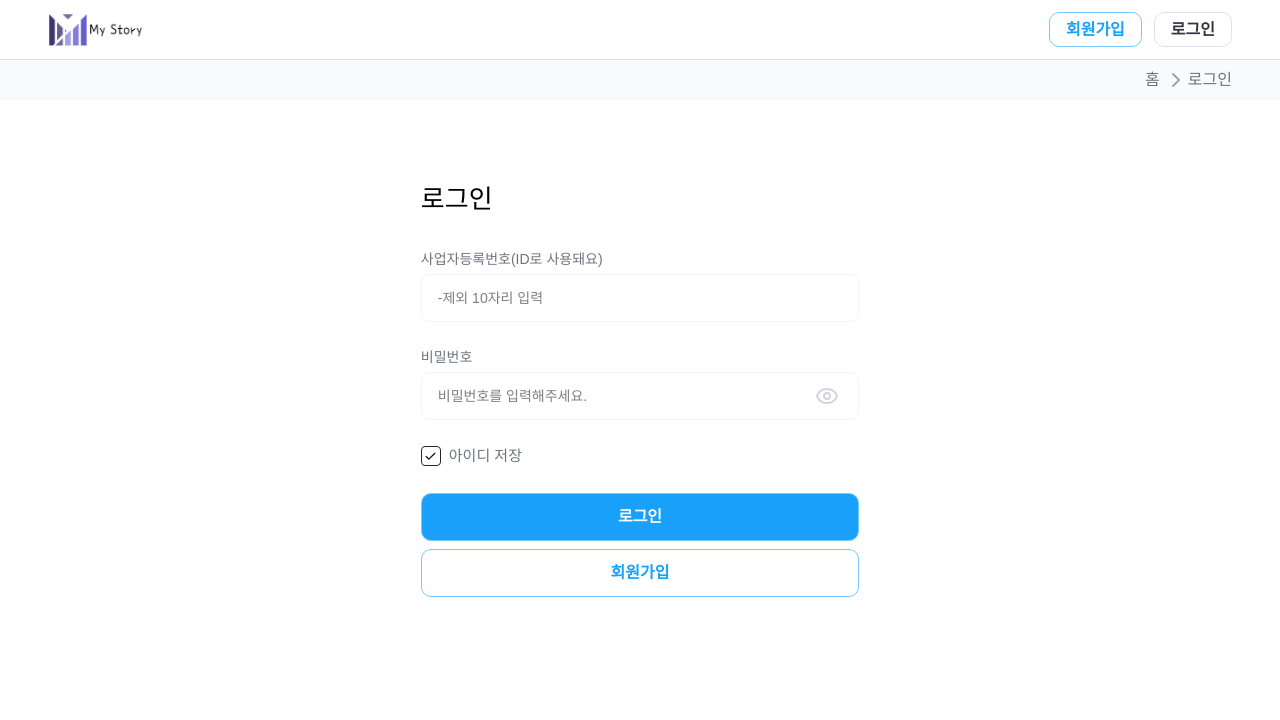
Test: 로그인 화면 › 사용자는 유효성 맞지 않는 아이디, 비밀번호로 로그인 시도시 토스트 바에 뜬다.
Type "1234567890" into the field with placeholder "-제외 10자리 입력" at (640, 298), box [421,274,859,322]
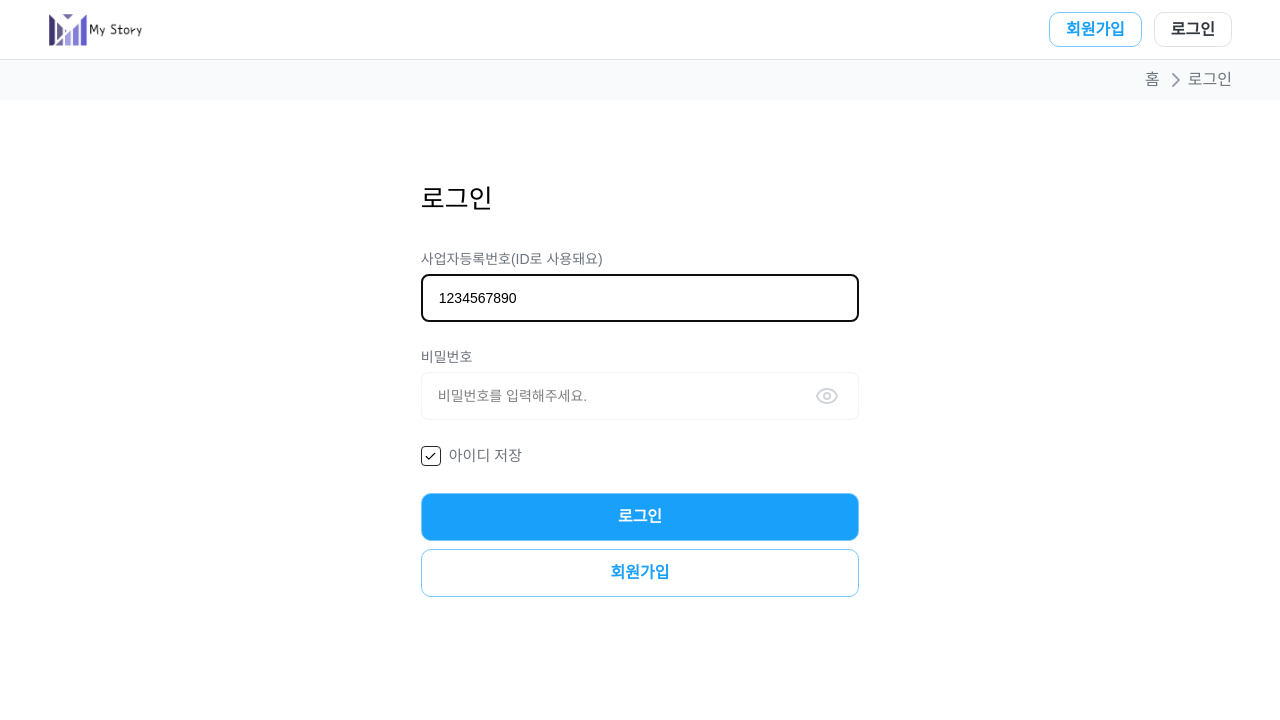
Type "invalidPassword" into the password field with placeholder "비밀번호를 입력해주세요." at (640, 396), box [421,372,859,420]
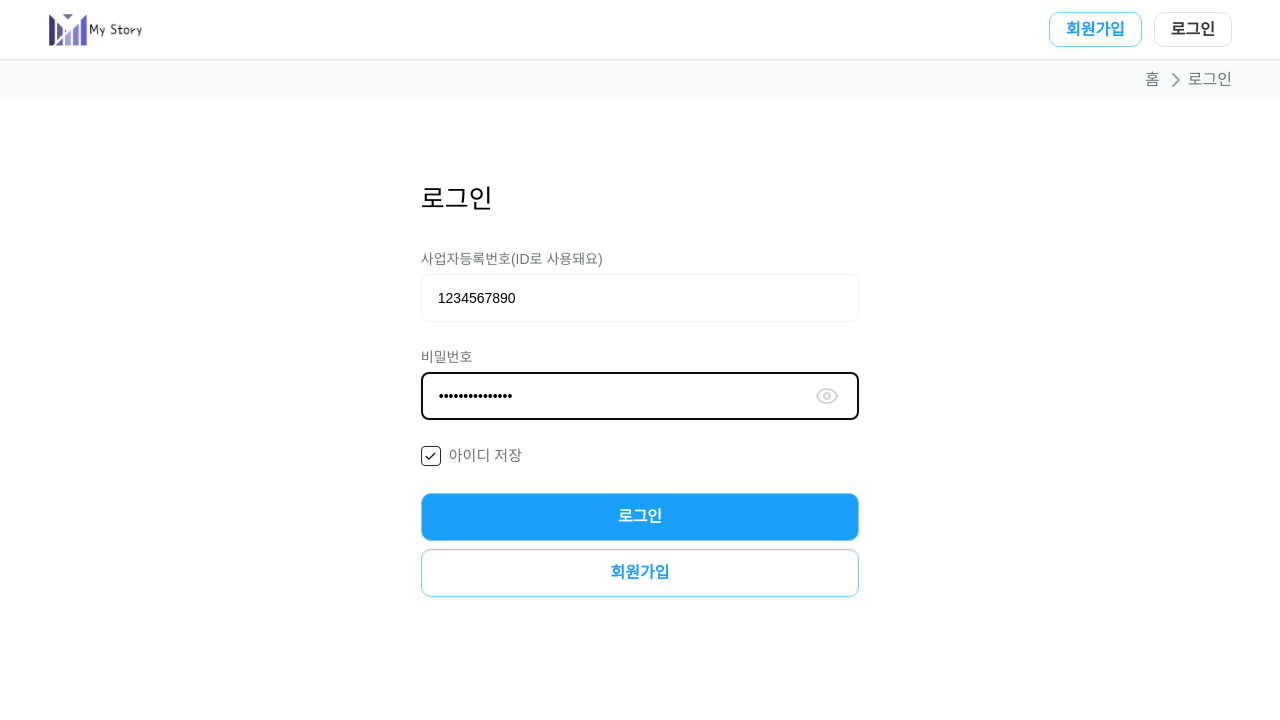
Click the button with test id "login-button" at (640, 517), box [421,493,859,541]
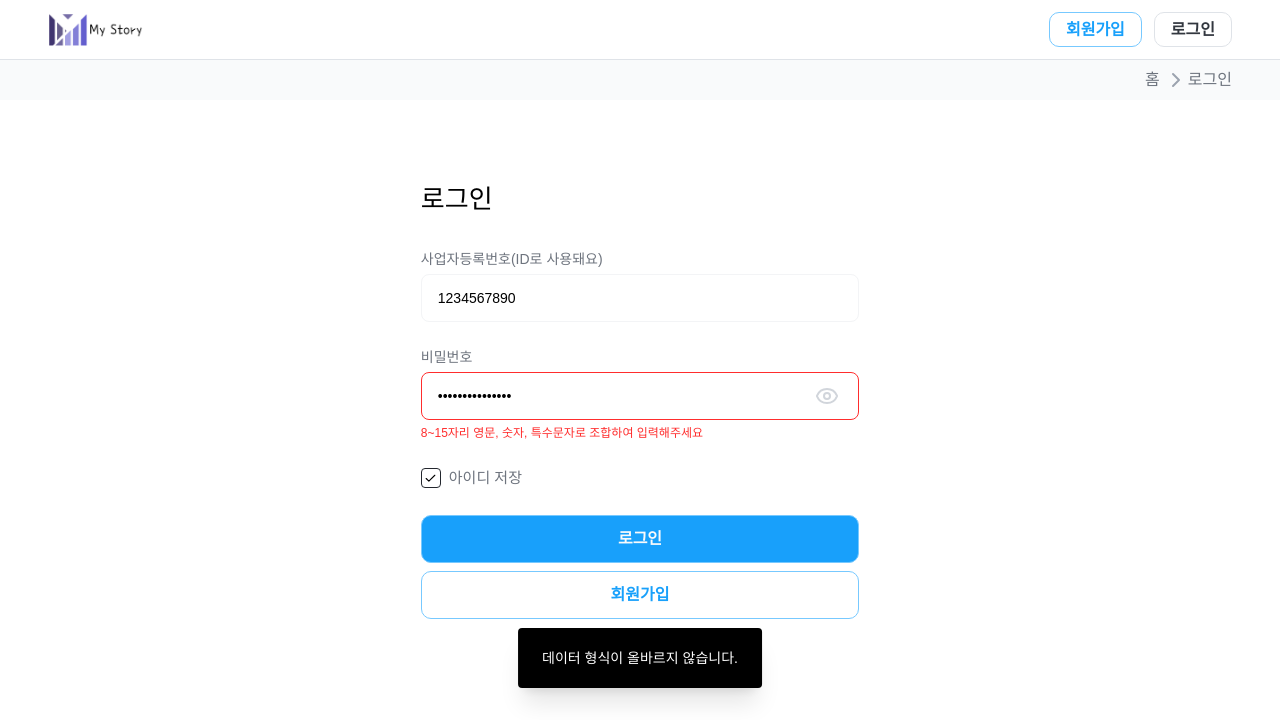
expect the text with test id "toast" reads "데이터 형식이 올바르지 않습니다.": met, box [518,628,762,688]
